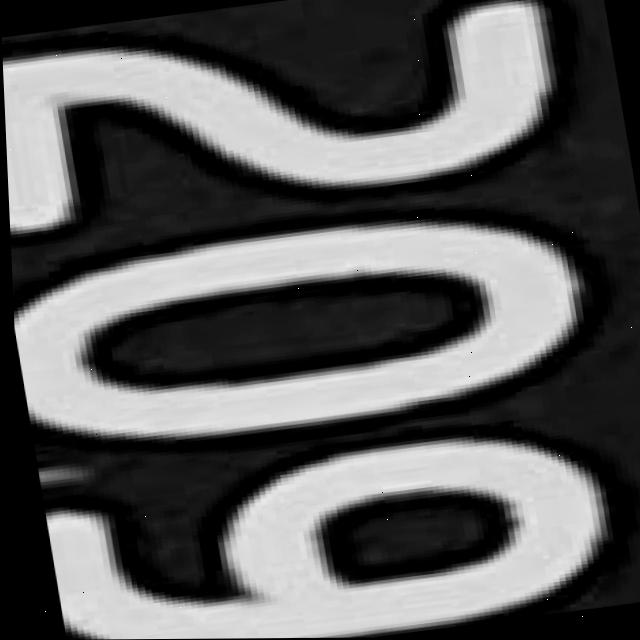character: (9, 188, 611, 471), (0, 0, 579, 246), (37, 414, 638, 640)
